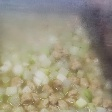dongguawanzi: (1, 11, 112, 112)
